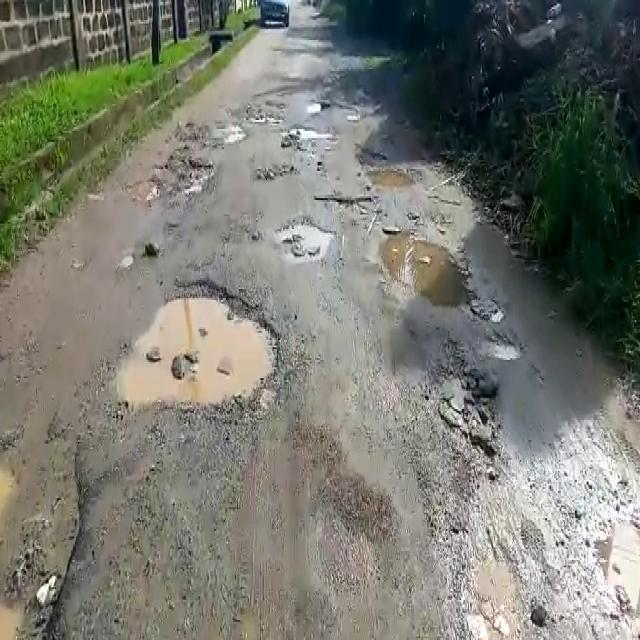pothole: (119, 278, 295, 417), (0, 424, 83, 639), (376, 227, 478, 310), (127, 148, 211, 214), (275, 214, 335, 259), (316, 192, 380, 217), (364, 166, 419, 193), (278, 126, 337, 149)
